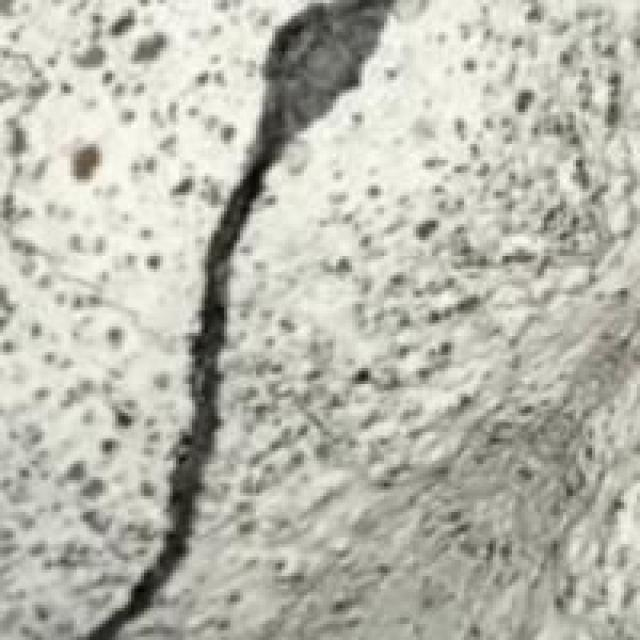Crack: (42, 13, 484, 634)
